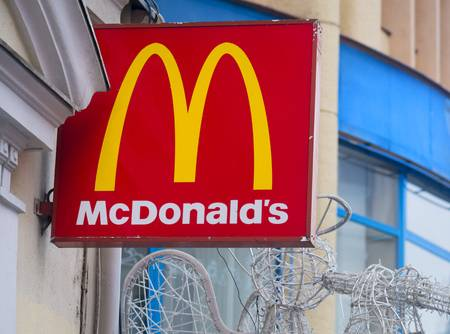mcdonalds: (97, 40, 273, 189)
